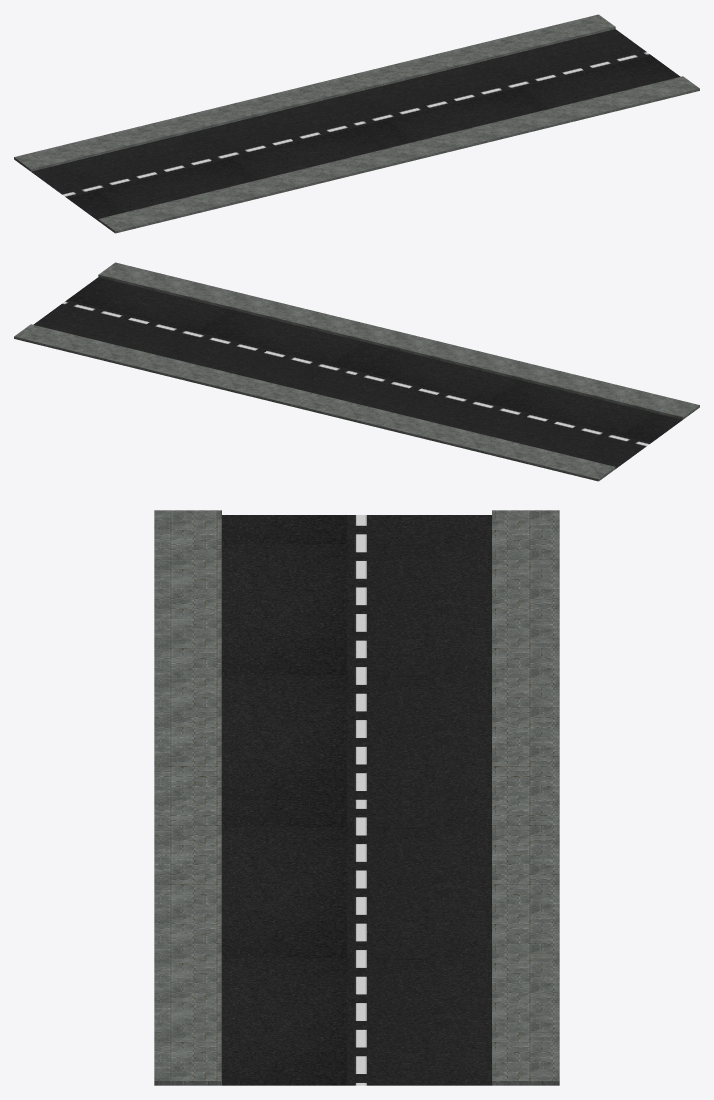
The picture shows the model from 3 angles, top to bottom: view 1: azimuth 30°, elevation 25°; view 2: azimuth 150°, elevation 25°; view 3: azimuth 270°, elevation 25°; orthographic projection. The views are drawn at different scales.
Visible parts, largest first — view 1: road_dashed.001; view 2: road_dashed.001; view 3: road_dashed.001.
Boxes of the visible parts, x1,y1,x2,y2 form: road_dashed.001: [14, 14, 699, 233]; road_dashed.001: [14, 262, 699, 481]; road_dashed.001: [154, 510, 559, 1085].
Size of the model in its own units: 4000 by 15 by 1200.
Materials: 1 (1 with a texture image).
